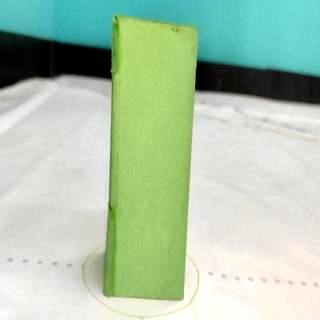greenbox: (106, 16, 200, 300)
